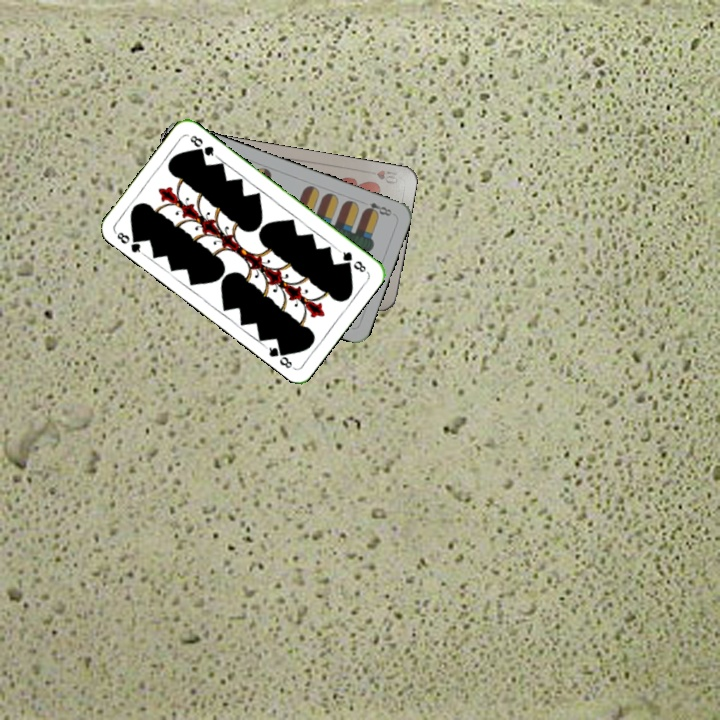E8: (360, 198, 396, 219)
G8: (111, 228, 146, 257), (335, 246, 369, 275)
H10: (361, 166, 401, 187)
